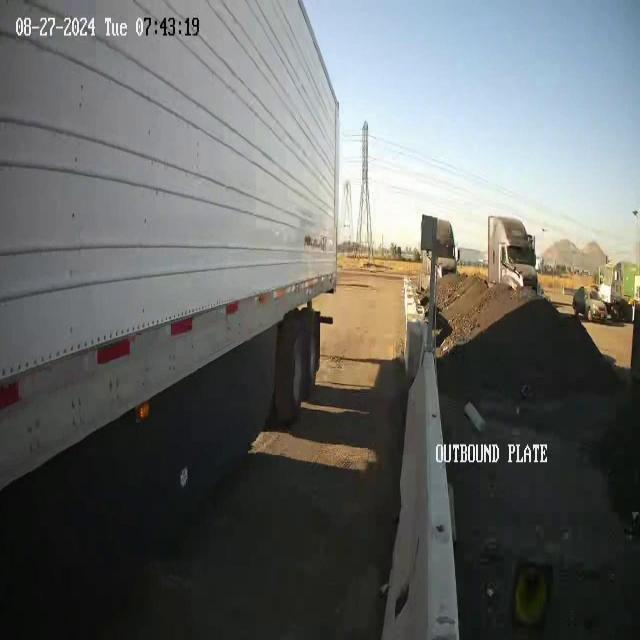TRUCK_OUT: (1, 1, 340, 515)
